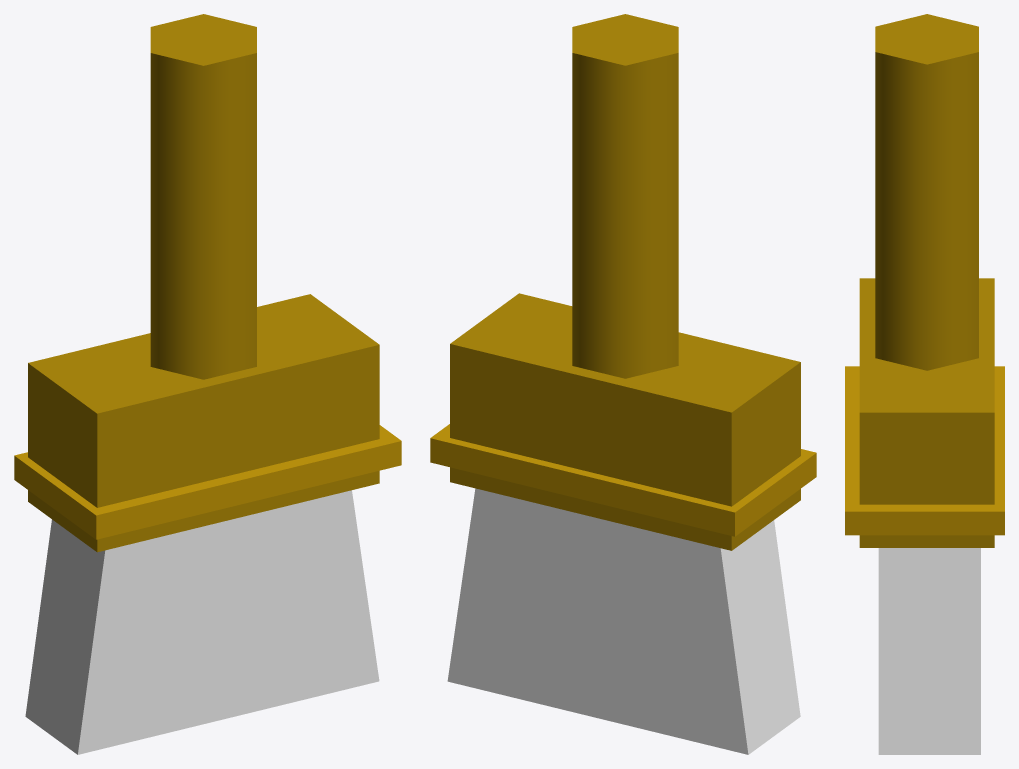
File: paint_brush.glb
3 renders of one model, left to right at view 1: azimuth 30°, elevation 25°; view 2: azimuth 150°, elevation 25°; view 3: azimuth 270°, elevation 25°, orthographic. The views are drawn at different scales.
Parts seen in each view (by area): view 1: theresonlyone (×3); view 2: theresonlyone (×3); view 3: theresonlyone (×3).
Boxes of the visible parts, x1,y1,x2,y2 form: theresonlyone (×3): (14, 14, 401, 754); theresonlyone (×3): (430, 14, 816, 754); theresonlyone (×3): (845, 14, 1004, 754).
Bounding box in the file's own units: 0.1979 × 0.4069 × 0.0916.
